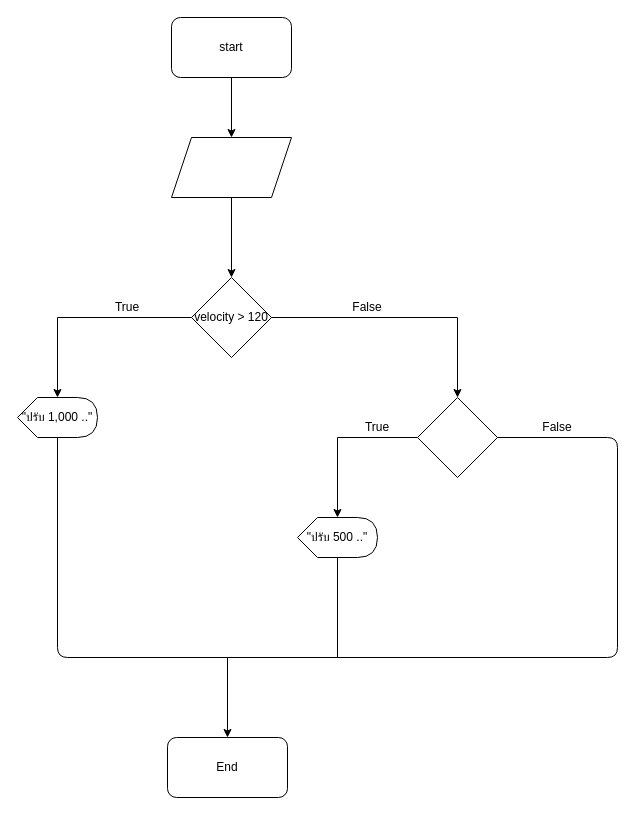
Image size: 636x815. Some labels were removed from this diagram. Each missing label, with the box of its shape:
velocity: (170, 136, 292, 198)
velocity > 80: (416, 396, 498, 478)
